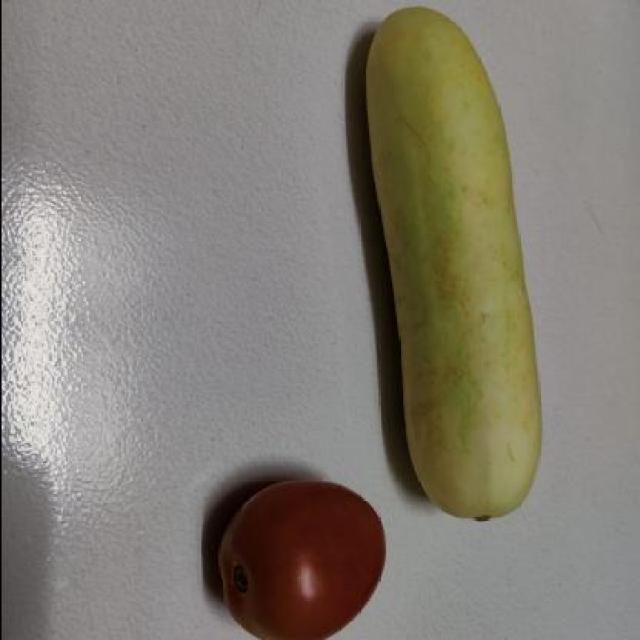tomato: (206, 477, 392, 640)
